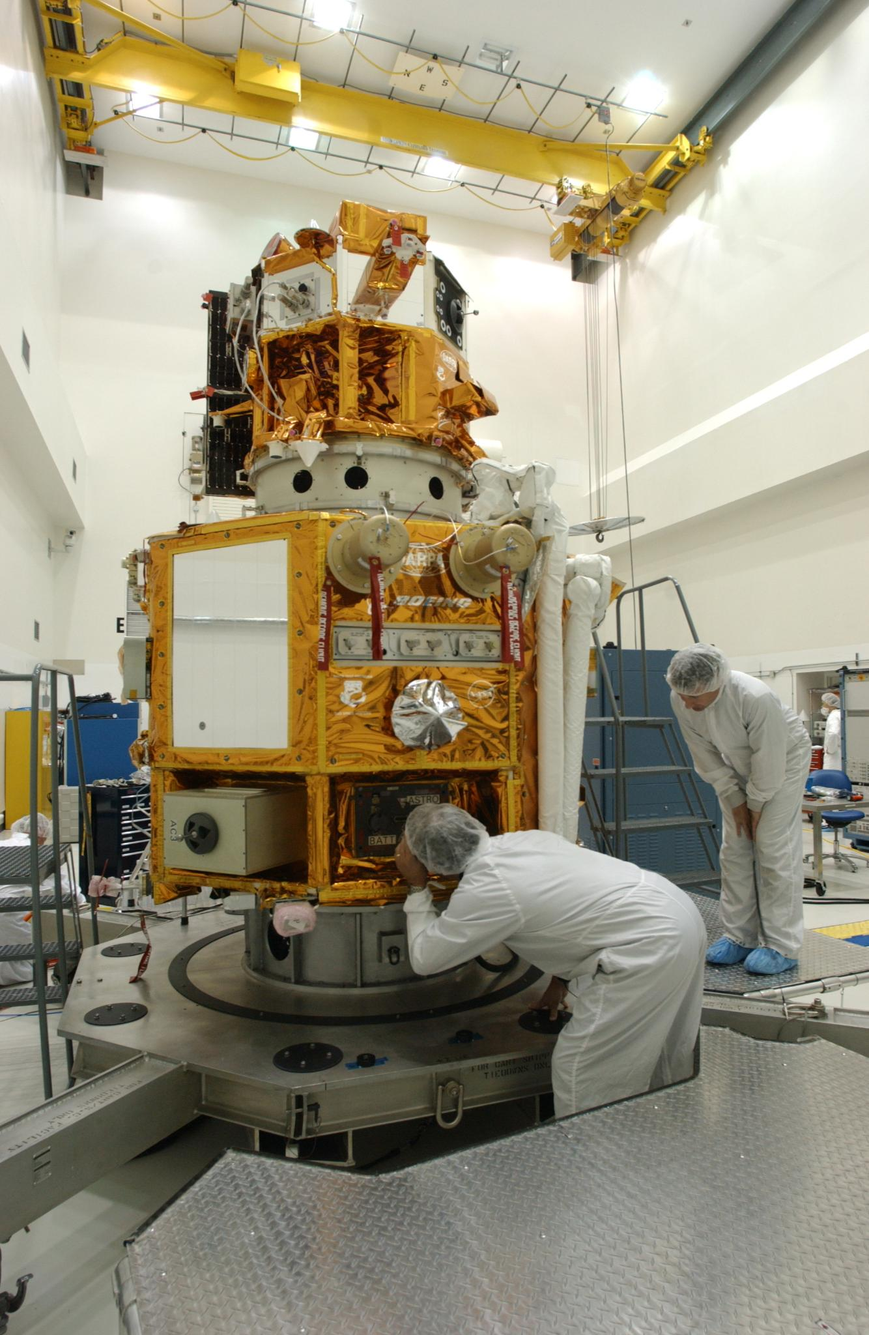antenna: (382, 674, 467, 753), (179, 810, 221, 857), (292, 225, 337, 255)
body: (136, 220, 593, 914)
